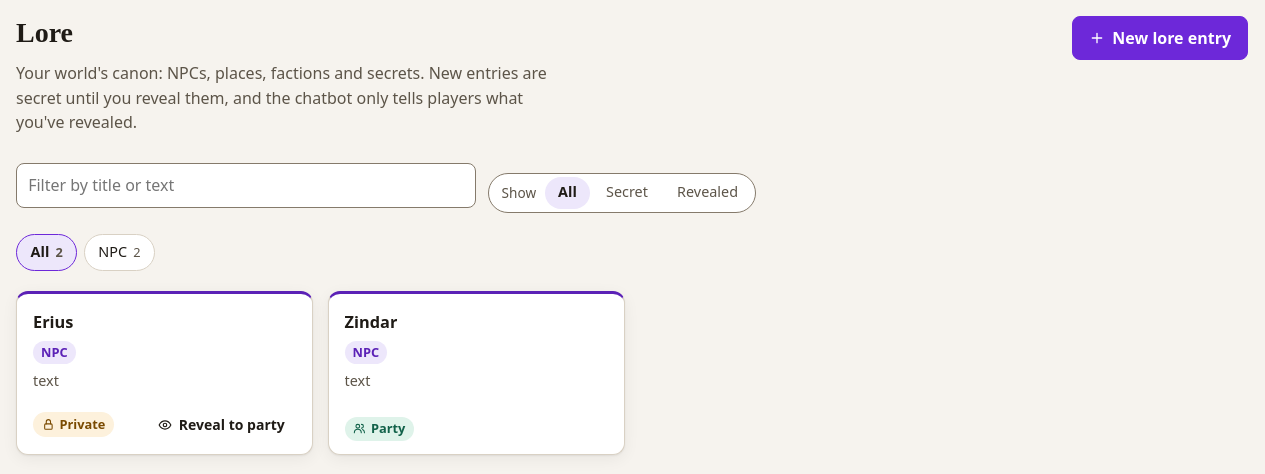
L1/L3 lore board › secret/revealed is a radio group in the toolbar
The width and height of the screenshot is (1265, 474).
Expected: the text "Erius" is shown, [33, 311, 73, 333]
Click the radio button labelled "Revealed" at [708, 192], box [677, 182, 738, 201]
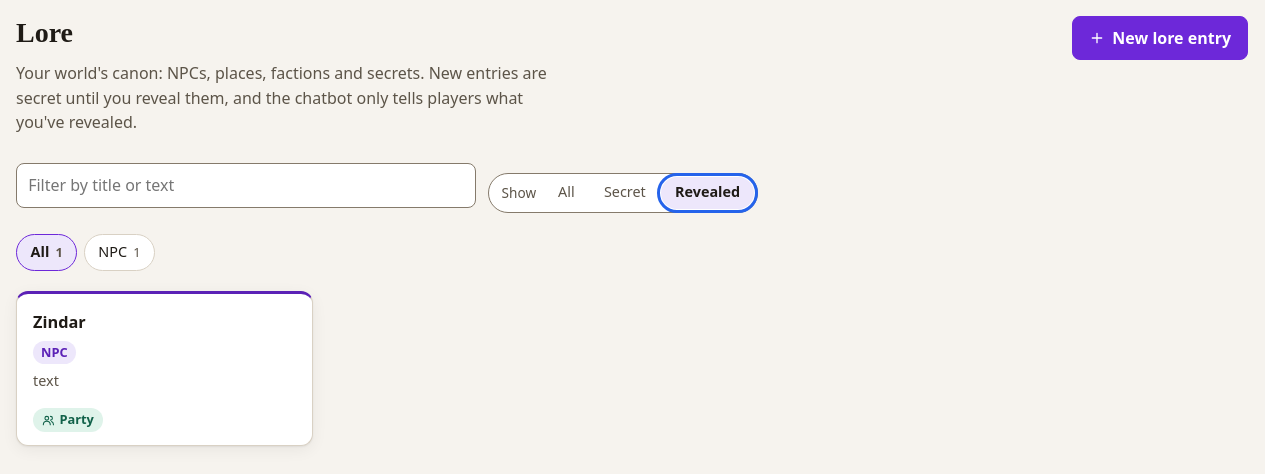
Expected: the radio button labelled "Revealed" is checked, [661, 177, 754, 208]
Expected: the button "Erius" is gone
